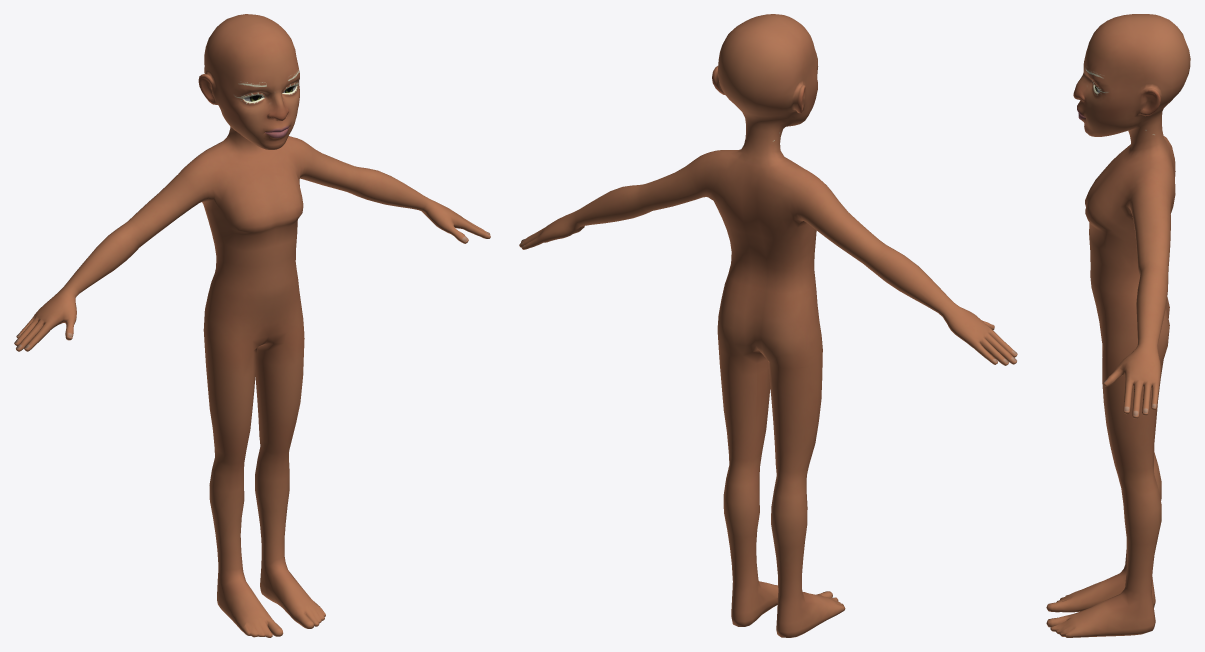
The model's file is frame_0073.glb.
The picture shows the model from 3 angles, left to right: view 1: azimuth 30°, elevation 25°; view 2: azimuth 150°, elevation 25°; view 3: azimuth 270°, elevation 25°; orthographic projection. The views are drawn at different scales.
Visible parts, largest first — view 1: frame_0073_head_geo; view 2: frame_0073_head_geo; view 3: frame_0073_head_geo.
Part boxes in pixels (x1,y1,x2,y2): frame_0073_head_geo: (14, 14, 490, 637); frame_0073_head_geo: (519, 14, 1017, 637); frame_0073_head_geo: (1046, 14, 1190, 637).
Size of the model in its own units: 1.28 by 1.5 by 0.3253.
Materials: 3 (3 with a texture image).
